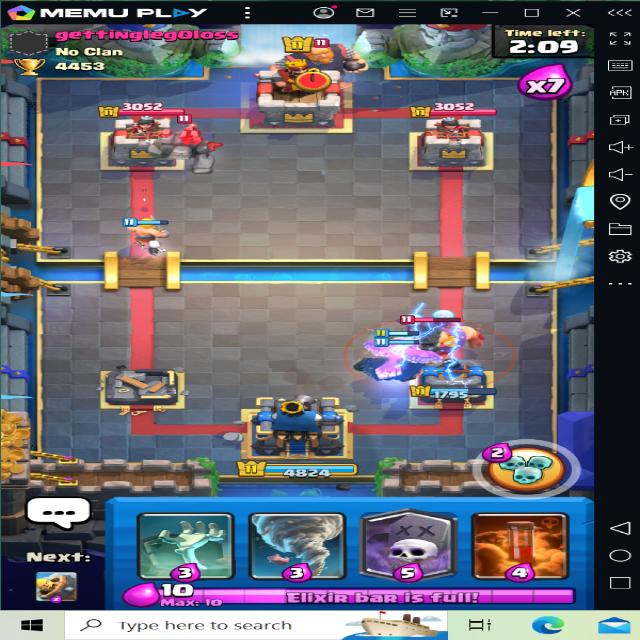electro-giant: (370, 304, 487, 370)
golem: (137, 115, 236, 174)
royal-giant: (272, 35, 375, 89)
